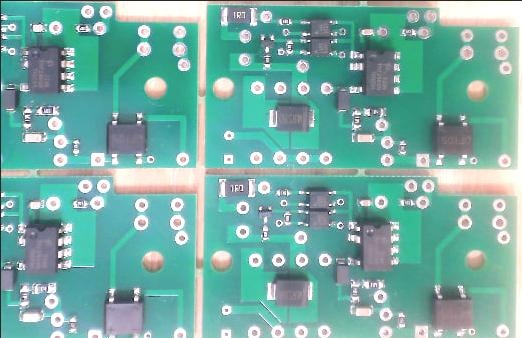chip-capacitor: (17, 308, 44, 322), (20, 130, 47, 142), (348, 304, 374, 316), (350, 131, 375, 142), (28, 20, 47, 32), (26, 198, 44, 209), (357, 26, 375, 36), (356, 197, 372, 206)
chip-resistor: (215, 175, 256, 198), (219, 4, 258, 27), (31, 279, 57, 293), (349, 104, 362, 131), (18, 280, 30, 307), (20, 104, 32, 130), (348, 277, 360, 303), (33, 104, 60, 115), (362, 105, 386, 116), (360, 278, 385, 288), (67, 314, 78, 334), (71, 196, 89, 208), (72, 22, 90, 33), (273, 186, 291, 197), (395, 310, 406, 328), (71, 136, 80, 156), (397, 197, 415, 207), (399, 26, 416, 36), (260, 224, 269, 241), (277, 16, 293, 25), (285, 38, 293, 55), (398, 138, 406, 155), (282, 210, 291, 225), (262, 53, 270, 68)
diode: (265, 276, 314, 308), (266, 102, 315, 132), (1, 81, 17, 112), (333, 255, 349, 284), (1, 259, 15, 290), (335, 85, 349, 113)
ic: (14, 220, 73, 275), (17, 44, 76, 94), (346, 219, 400, 271), (346, 48, 401, 96), (430, 280, 471, 337), (105, 110, 147, 165), (431, 111, 473, 166), (102, 285, 143, 338), (296, 188, 336, 208), (296, 208, 336, 228), (299, 17, 338, 37), (298, 37, 337, 56)
transistor: (256, 203, 272, 223), (259, 33, 274, 53)
